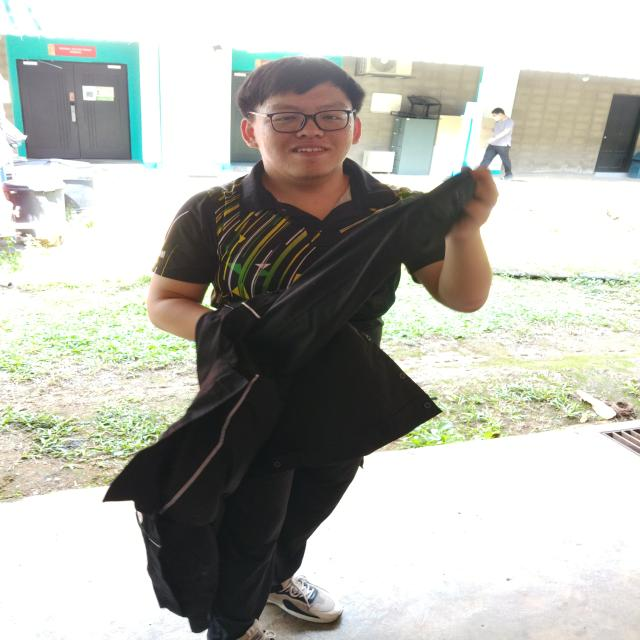person_without_labcoat: (107, 58, 498, 640)
